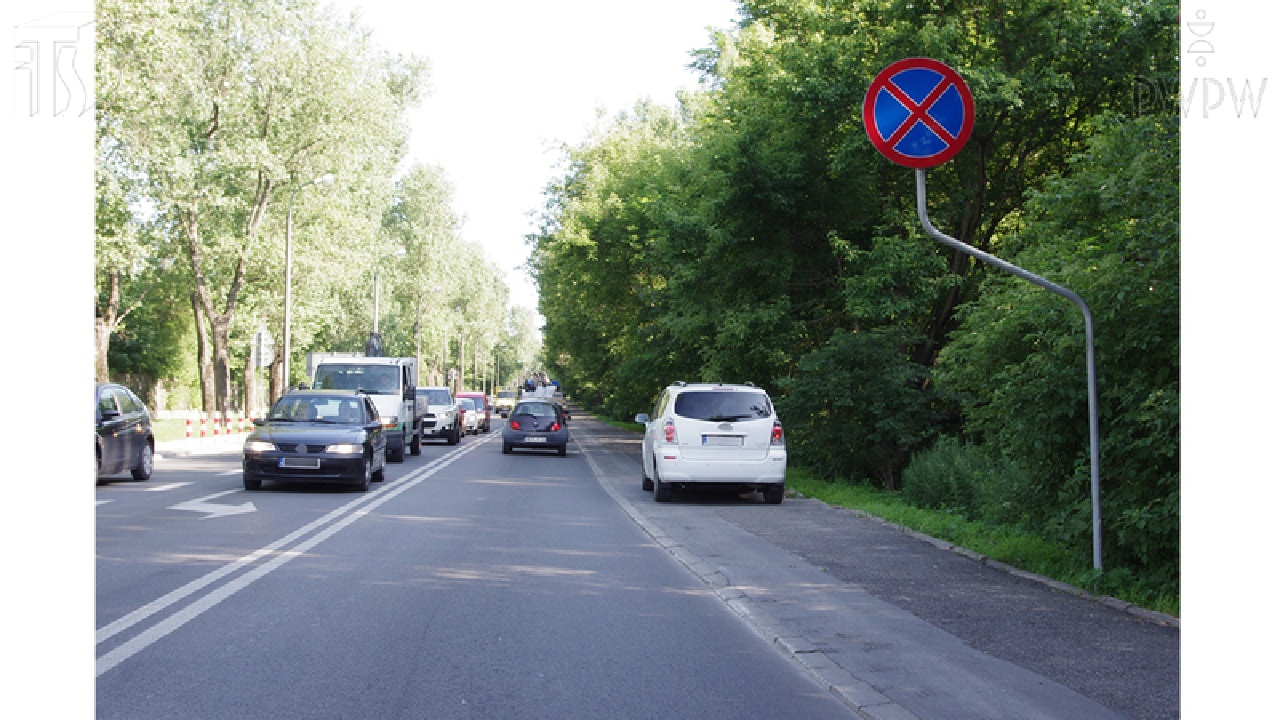B36: (863, 56, 977, 167)
